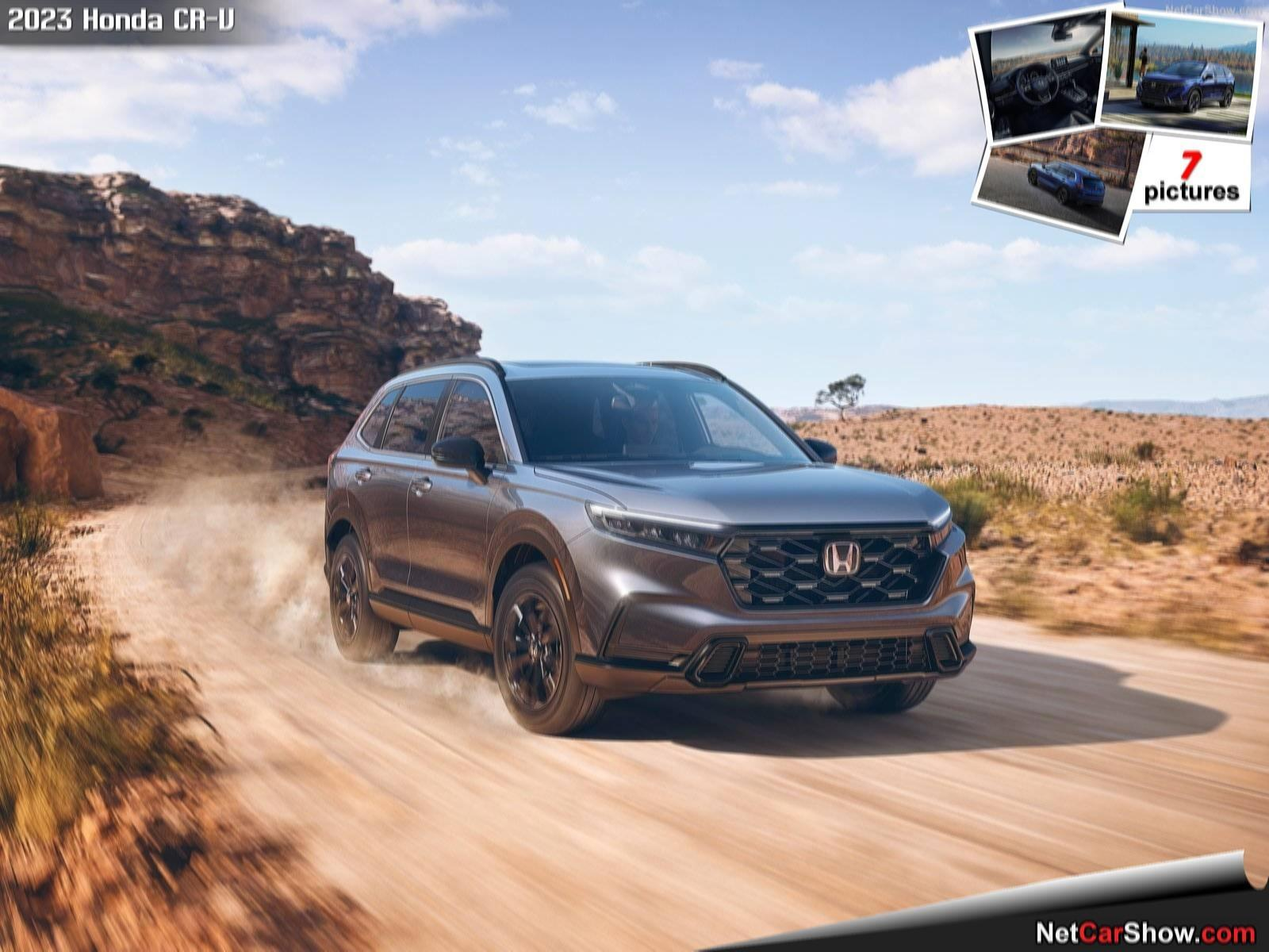Car hood: (530, 454, 950, 529)
Driver-s door - -F-R-: (400, 357, 516, 666)
Fender - -F-R-: (478, 459, 613, 632)
Fender - -R-R-: (320, 370, 379, 583)
Front bumper: (551, 522, 981, 700)
Headlight - -L-: (926, 506, 960, 553)
Headlight - -R-: (584, 502, 737, 563)
Passenger-s door - -R-R-: (342, 356, 449, 652)
Side bumper - -R-: (362, 576, 498, 660)
Side mirror - -R-: (422, 433, 499, 485)
